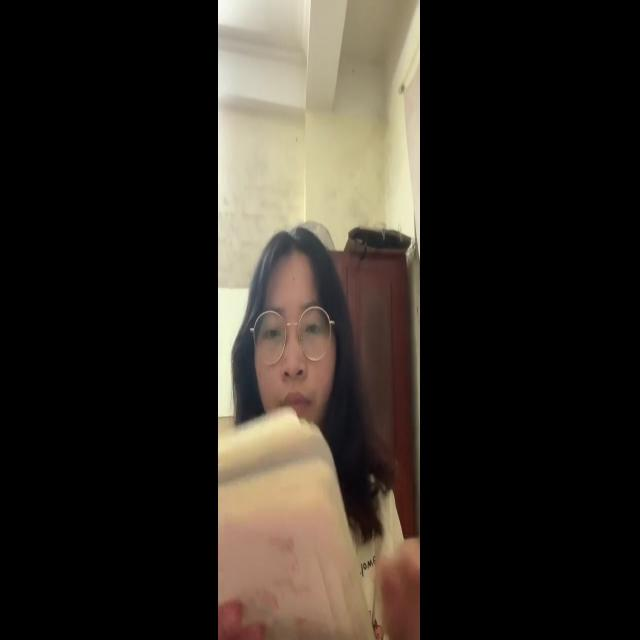book: (218, 415, 374, 640)
student: (242, 222, 353, 428)
